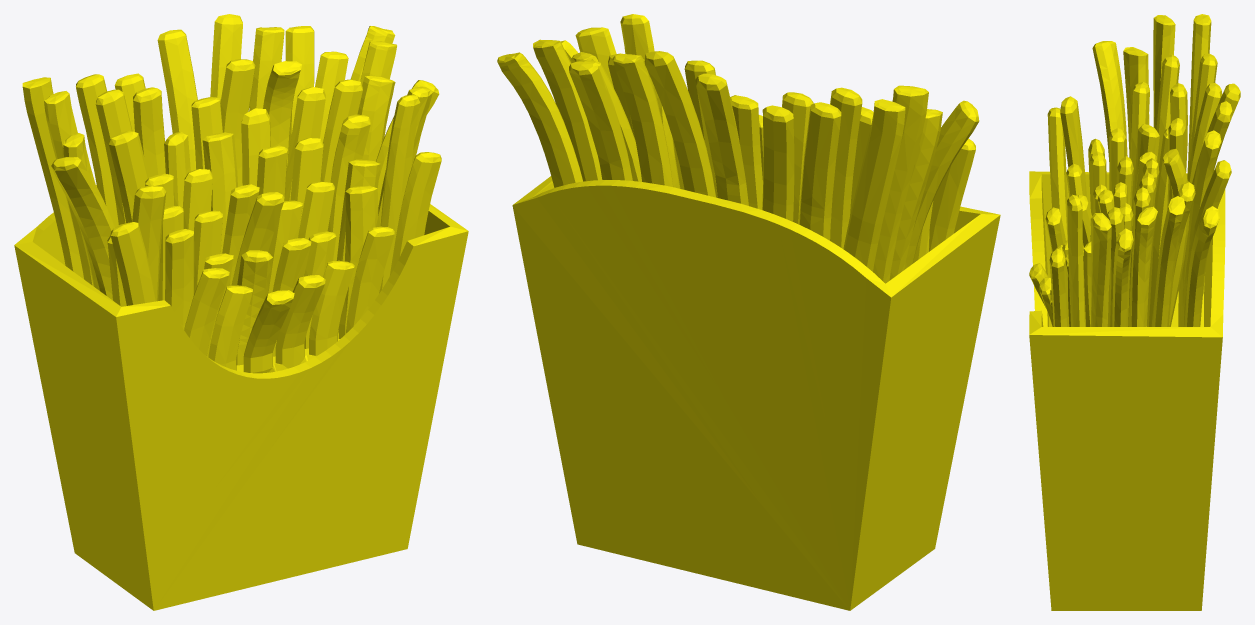
The model's file is papitas.glb.
3 views of the same model, side by side, from view 1: azimuth 30°, elevation 25°; view 2: azimuth 150°, elevation 25°; view 3: azimuth 270°, elevation 25° (orthographic). The views are drawn at different scales.
Bounding box in the file's own units: 0.0995 × 0.118 × 0.0487.
